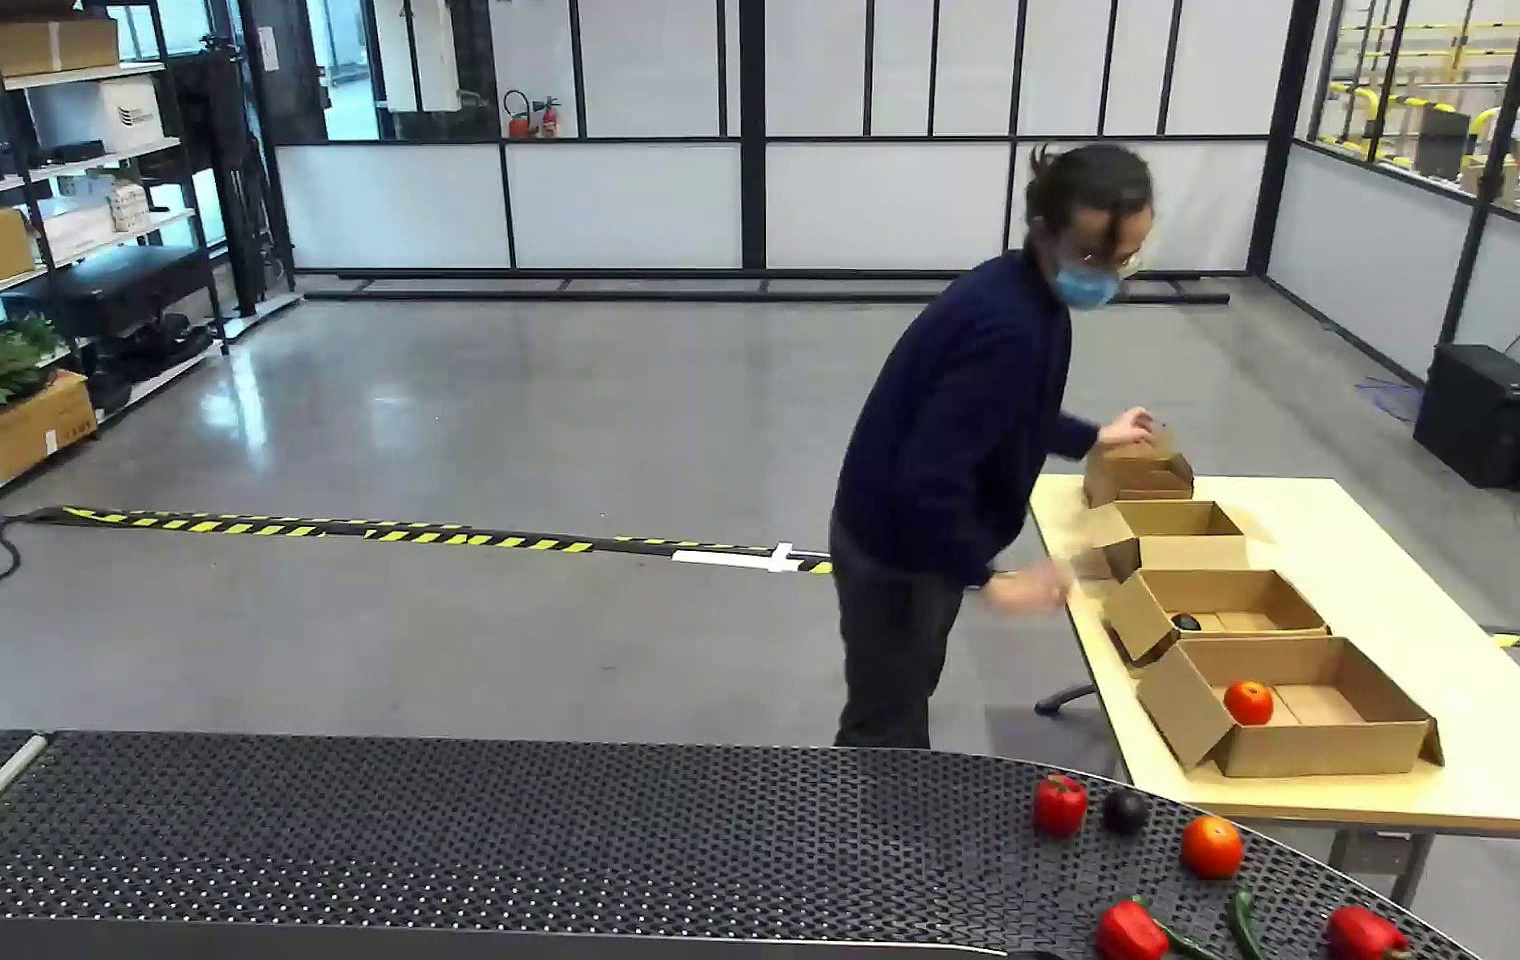Main droite: (1079, 467, 1130, 516)
